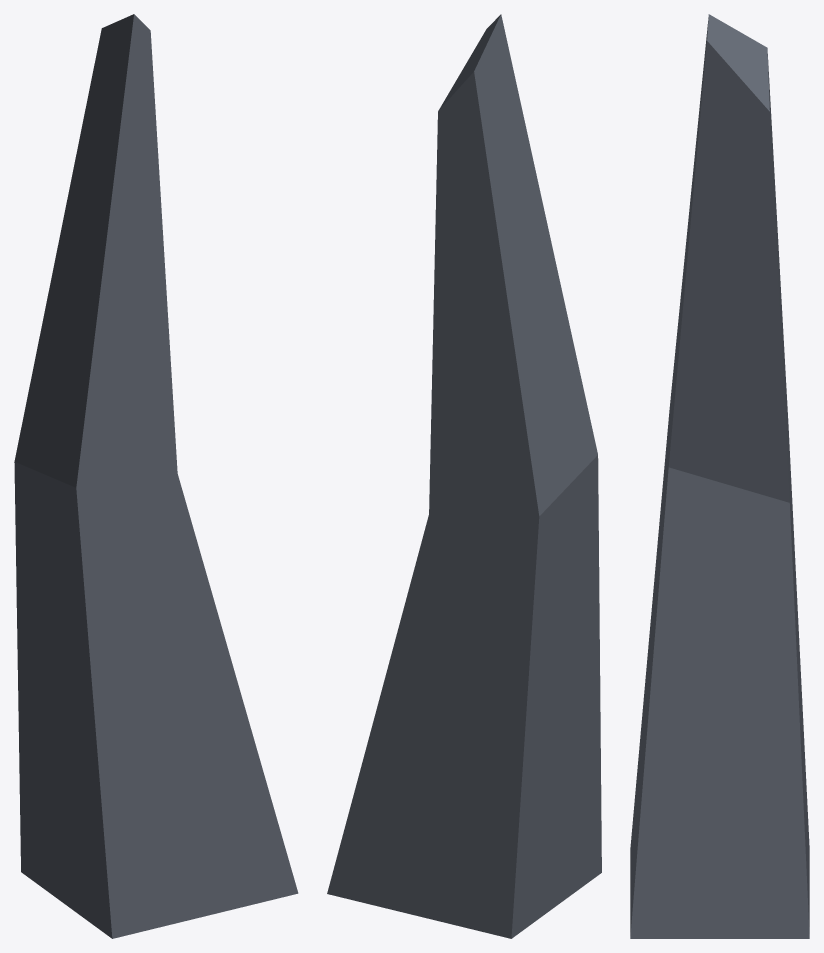
Rendered from Rock_Sharp_s_09.fbx.
3 renders of one model, left to right at view 1: azimuth 30°, elevation 25°; view 2: azimuth 150°, elevation 25°; view 3: azimuth 270°, elevation 25°, orthographic.
Visible parts, largest first — view 1: Rock_Sharp_s_09; view 2: Rock_Sharp_s_09; view 3: Rock_Sharp_s_09.
Boxes of the visible parts, x1,y1,x2,y2 form: Rock_Sharp_s_09: (14,14,298,938); Rock_Sharp_s_09: (327,14,601,938); Rock_Sharp_s_09: (630,14,809,938).
Size of the model in its own units: 14.83 by 61.34 by 11.53.
